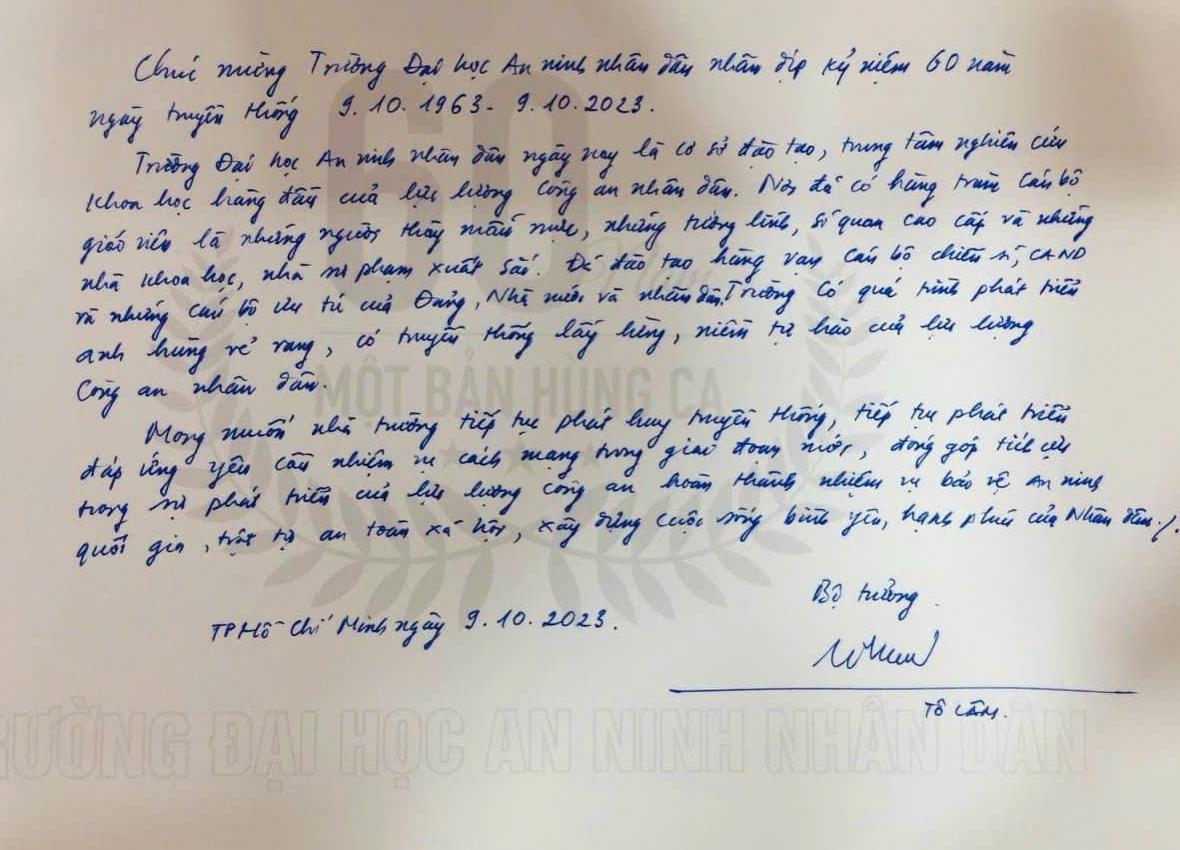text: (72, 500, 1180, 573), (71, 465, 1108, 538), (72, 272, 1085, 346), (76, 430, 1076, 500), (79, 162, 1086, 231), (71, 308, 1038, 379), (141, 396, 1075, 467), (130, 124, 1070, 194), (76, 202, 1096, 265), (78, 240, 1089, 296), (130, 44, 1016, 104), (85, 90, 658, 150), (206, 605, 619, 655), (72, 371, 328, 425), (804, 628, 941, 681), (806, 576, 922, 625), (922, 695, 1008, 726)
